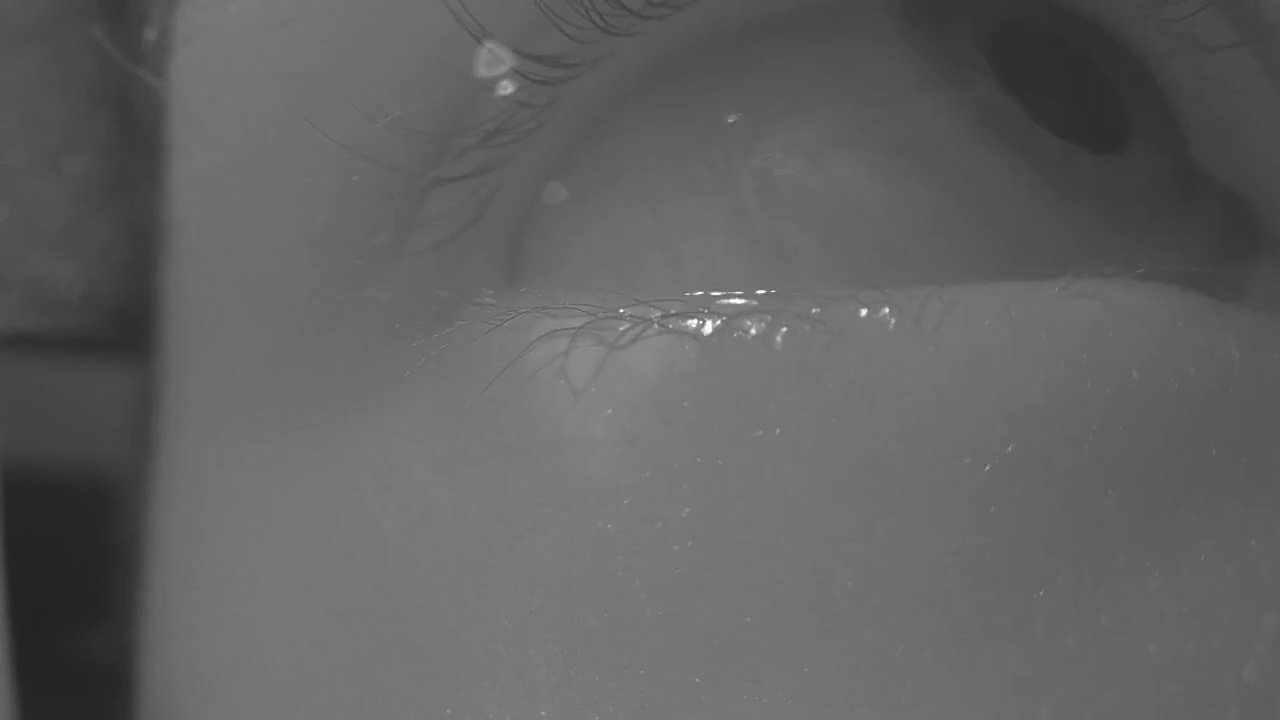pupil: (989, 20, 1129, 158)
